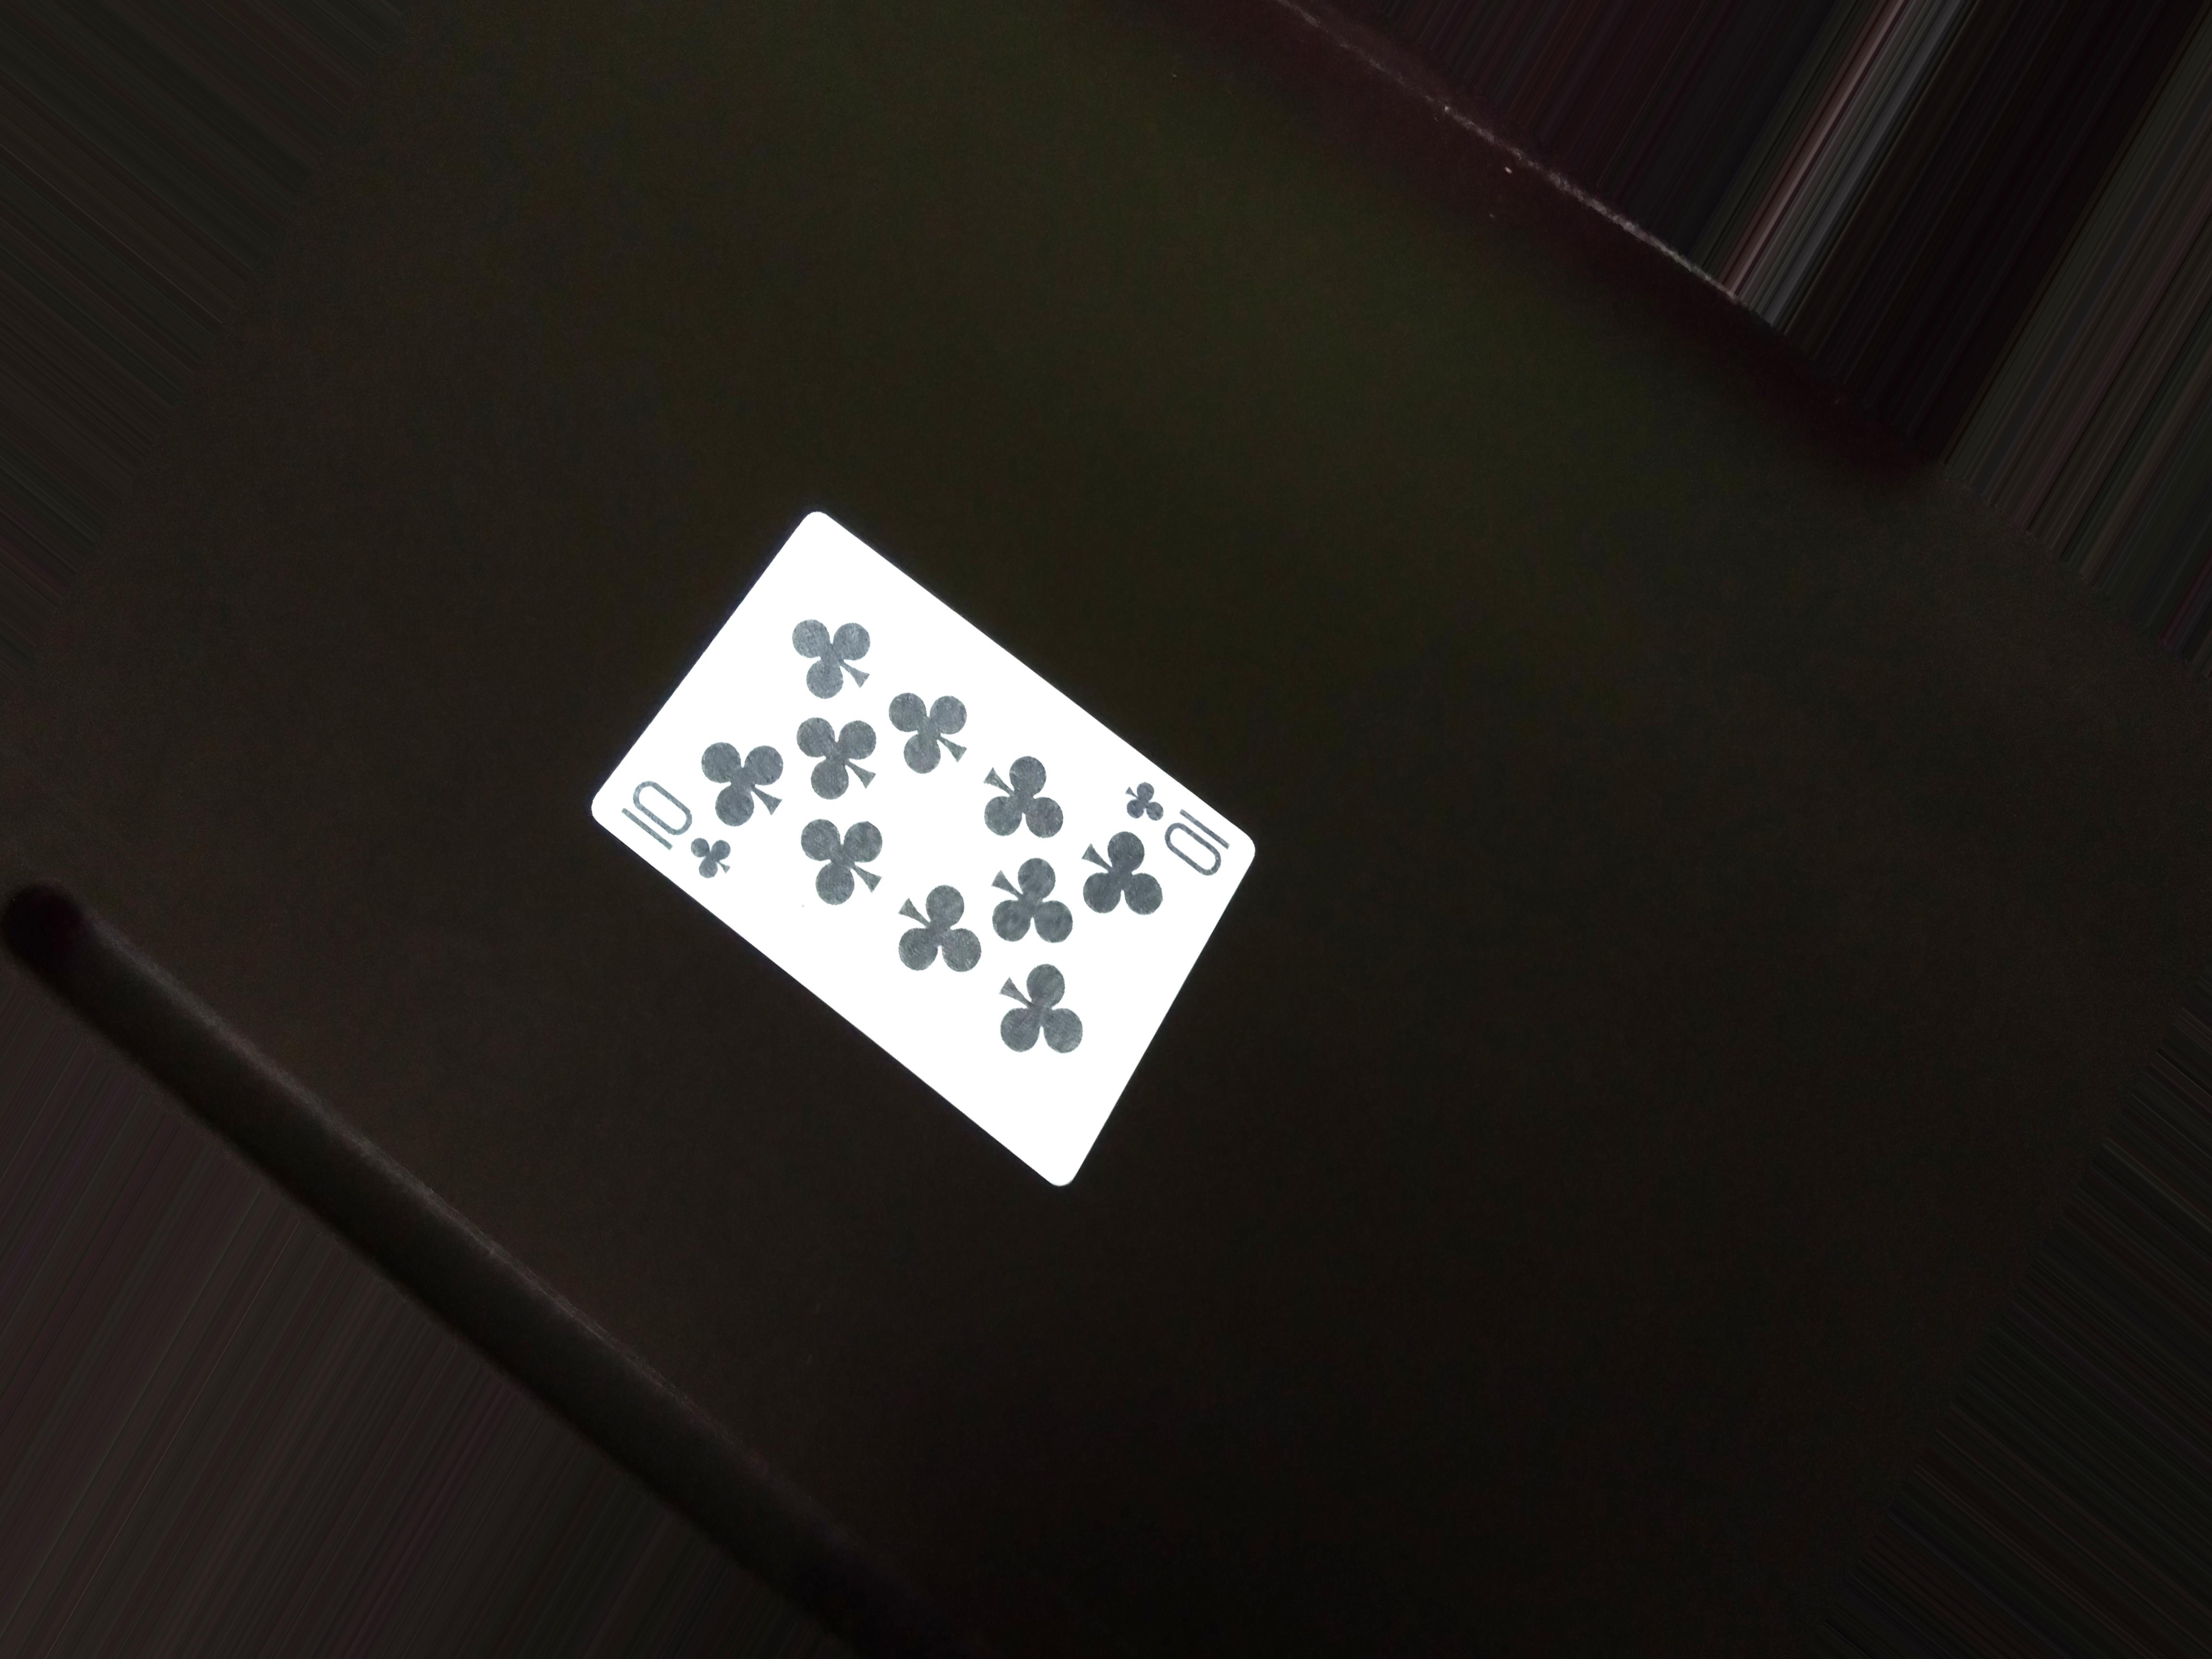10C: (624, 772, 733, 910)
